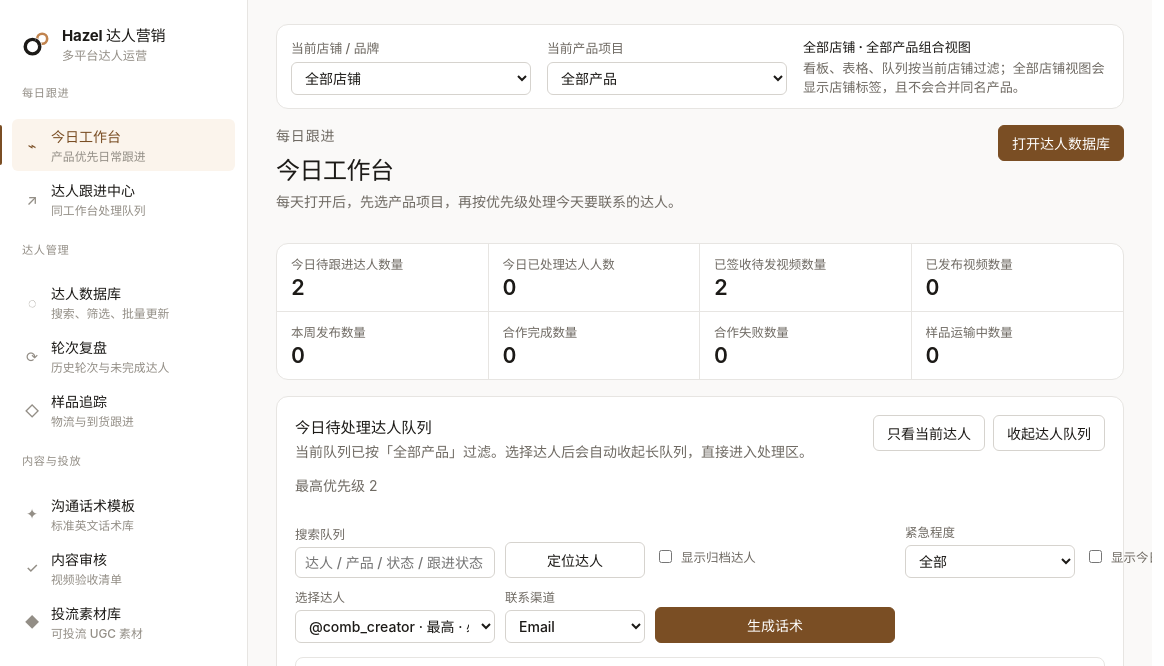
Test case: operations workbench navigation and dashboard › uses product-first workflow to filter overview, queue, and current creator panel while preserving 全部产品
Select "Pet Fountain" in the dropdown labelled "当前产品项目" at (667, 78), box [547,62,787,95]
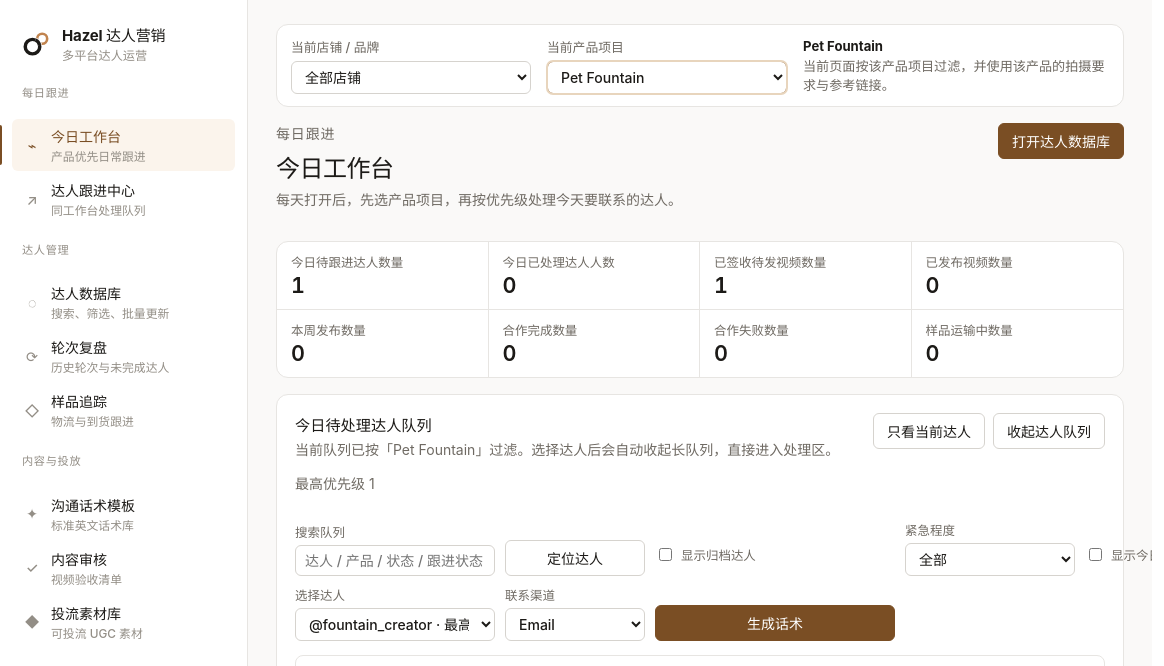
Expected: the button named "今日待跟进达人数量1Pet Fountain" is shown, [277,242,488,310]
Select "全部产品" in the dropdown labelled "当前产品项目" at (667, 78), box [547,61,787,94]
(page scrolled)
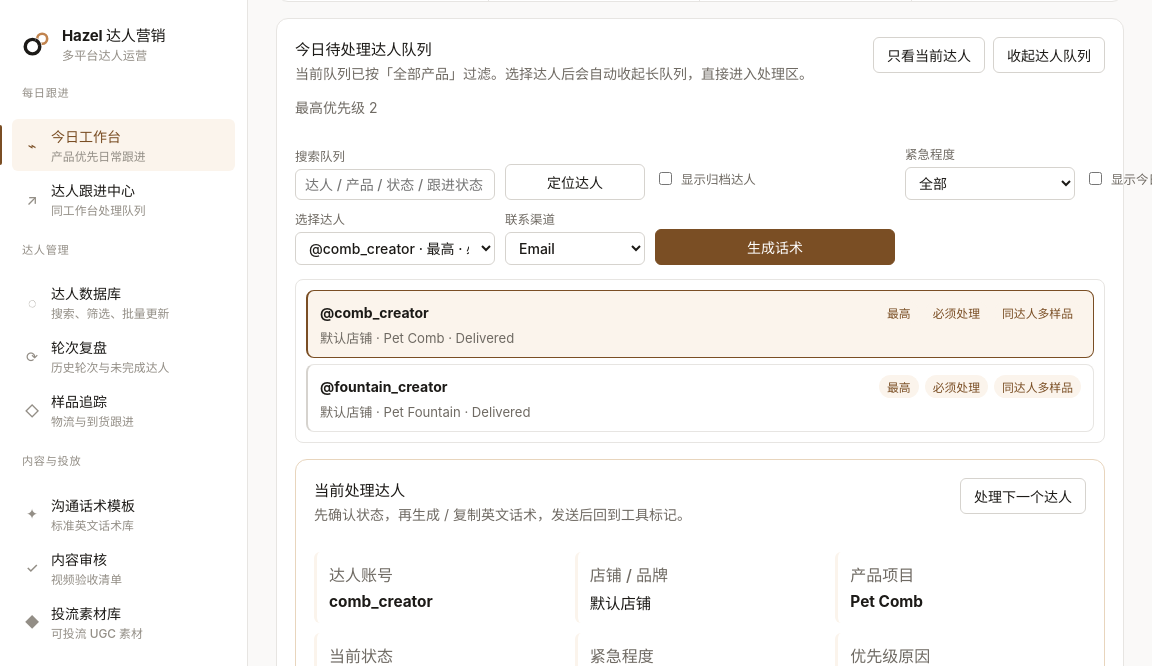
Expected: the element with test id "creator-queue" shows "comb_creator", [306,290,1094,358]
